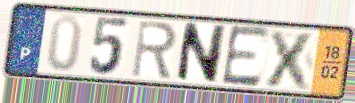0: (44, 13, 85, 74)
5: (88, 17, 132, 79)
E: (219, 23, 272, 90)
N: (173, 20, 229, 85)
R: (129, 19, 179, 81)
X: (261, 28, 319, 93)
